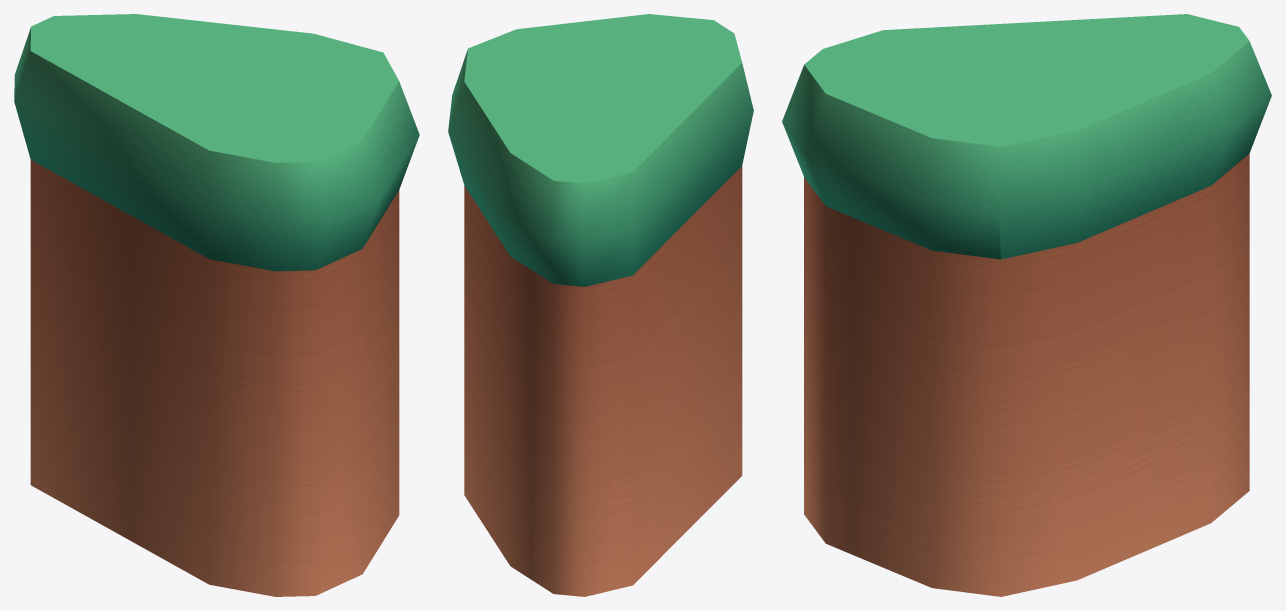
File: block-grass-corner.001_lev2.glb
3 views of the same model, side by side, from view 1: azimuth 30°, elevation 25°; view 2: azimuth 150°, elevation 25°; view 3: azimuth 270°, elevation 25° (orthographic). The views are drawn at different scales.
Visible parts, largest first — view 1: block-grass-corner.001_lev2; view 2: block-grass-corner.001_lev2; view 3: block-grass-corner.001_lev2.
Part boxes in pixels (x1=…): block-grass-corner.001_lev2: x1=14, y1=14, x2=419, y2=596; block-grass-corner.001_lev2: x1=448, y1=14, x2=753, y2=596; block-grass-corner.001_lev2: x1=782, y1=14, x2=1271, y2=596.
Size of the model in its own units: 3.15 by 4.52 by 4.46.
Materials: 1 (1 with a texture image).
